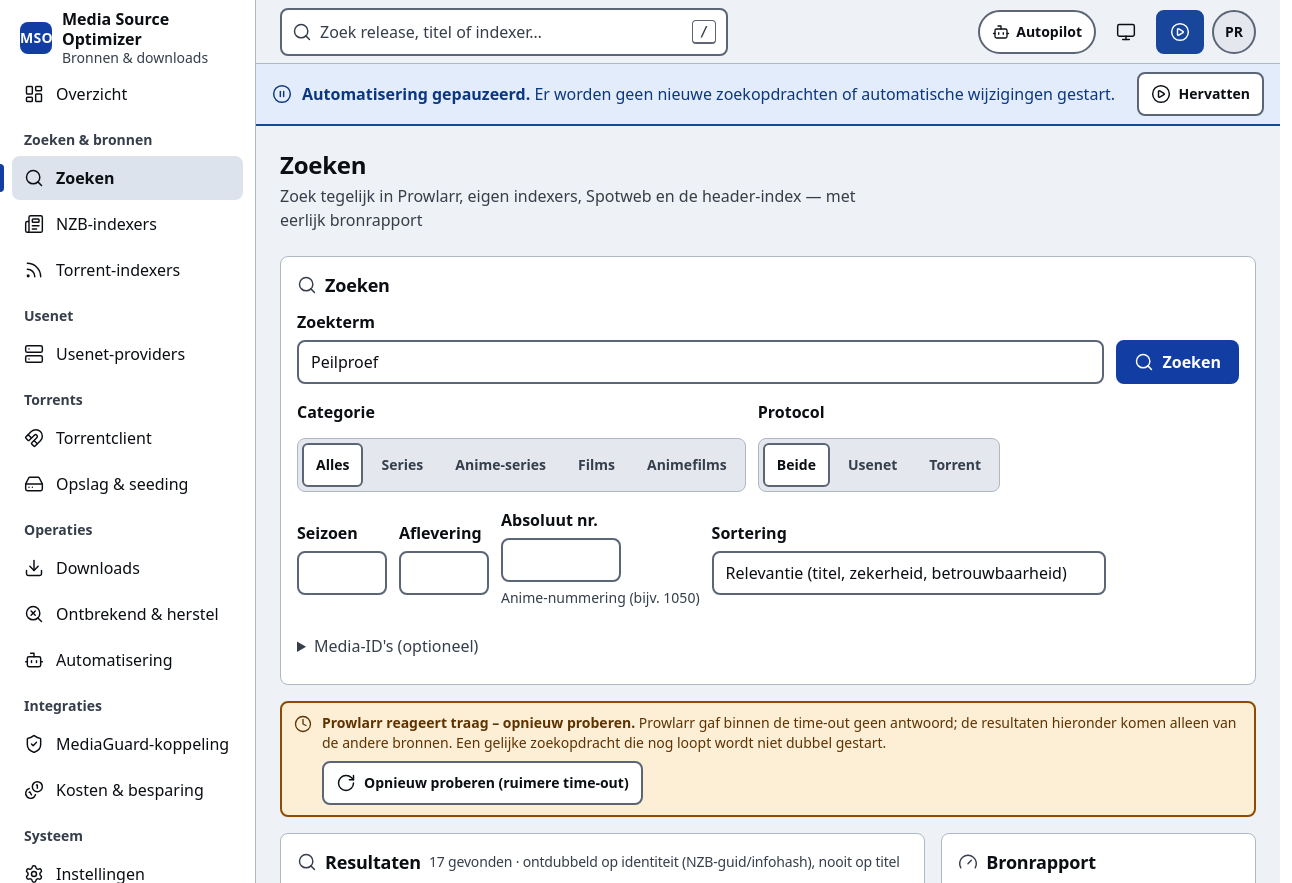
Test case: markeert het aantal zoekresultaten en het bronrapport na een mislukte zoekverversing
Expected: the heading that starts with "Resultaten" shows "17 gevonden", [429,852,900,871]
Click the button "Opnieuw proberen (ruimere time-out)" at (482, 783), box [322,761,643,805]
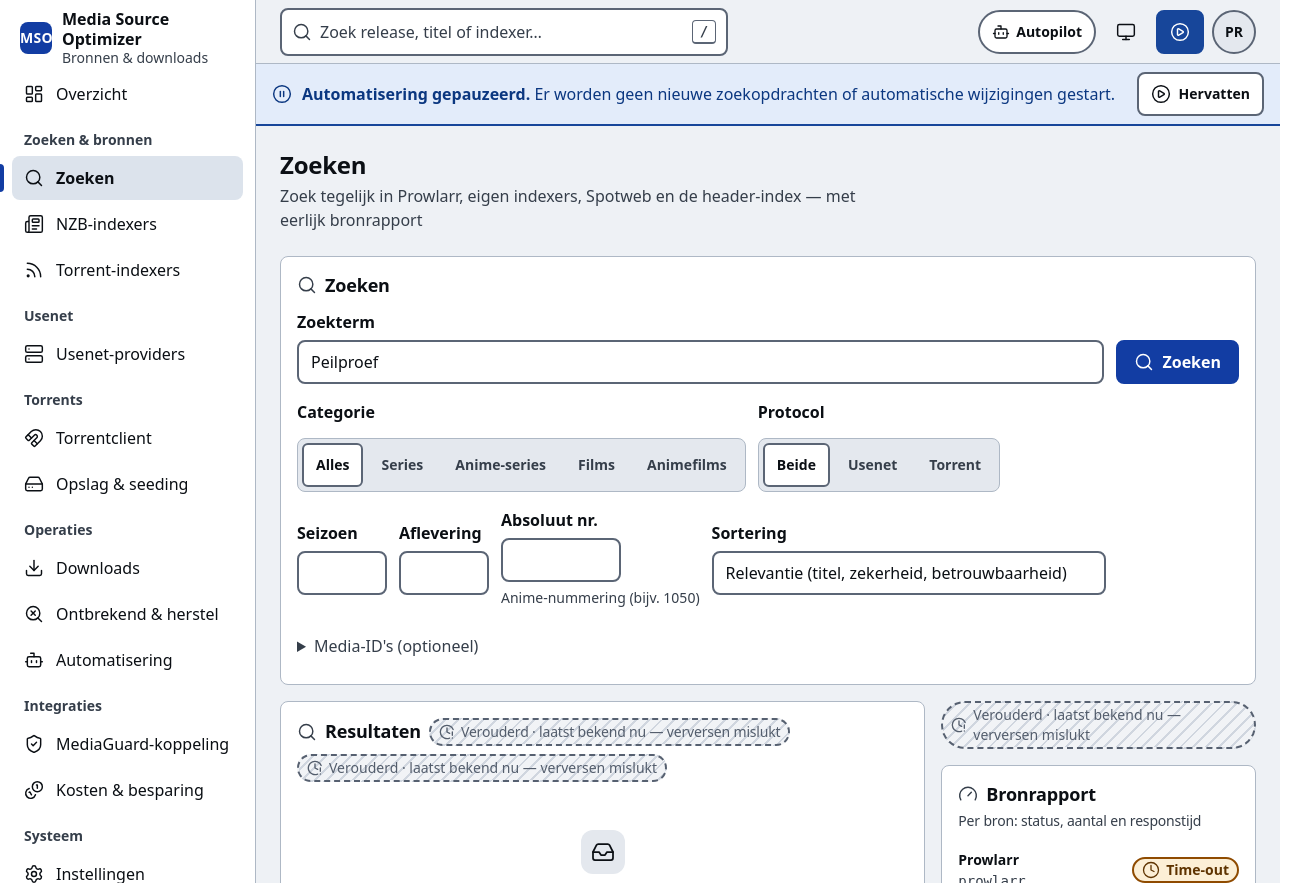
Result: the 1st message "Verouderd · laatst bekend nu — verversen mislukt" is shown at [429,718,790,746]
Result: the text "17 gevonden" is gone
Result: the 2nd message "Verouderd · laatst bekend nu — verversen mislukt" is shown at [941,701,1256,749]
Click the button "Zoeken" at (1178, 362), box [1116,340,1239,384]
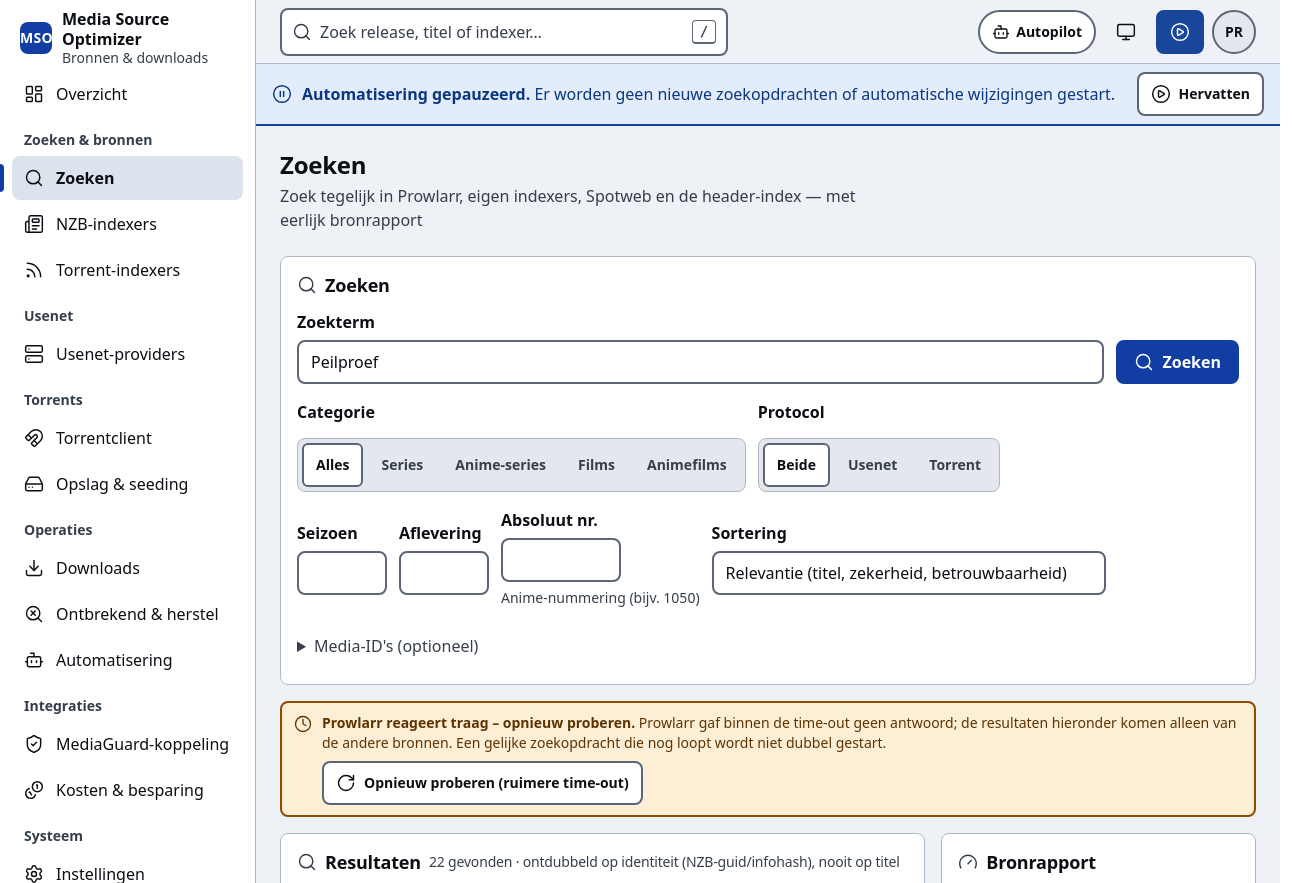
Result: the heading that starts with "Resultaten" shows "22 gevonden" at [429,852,900,871]
